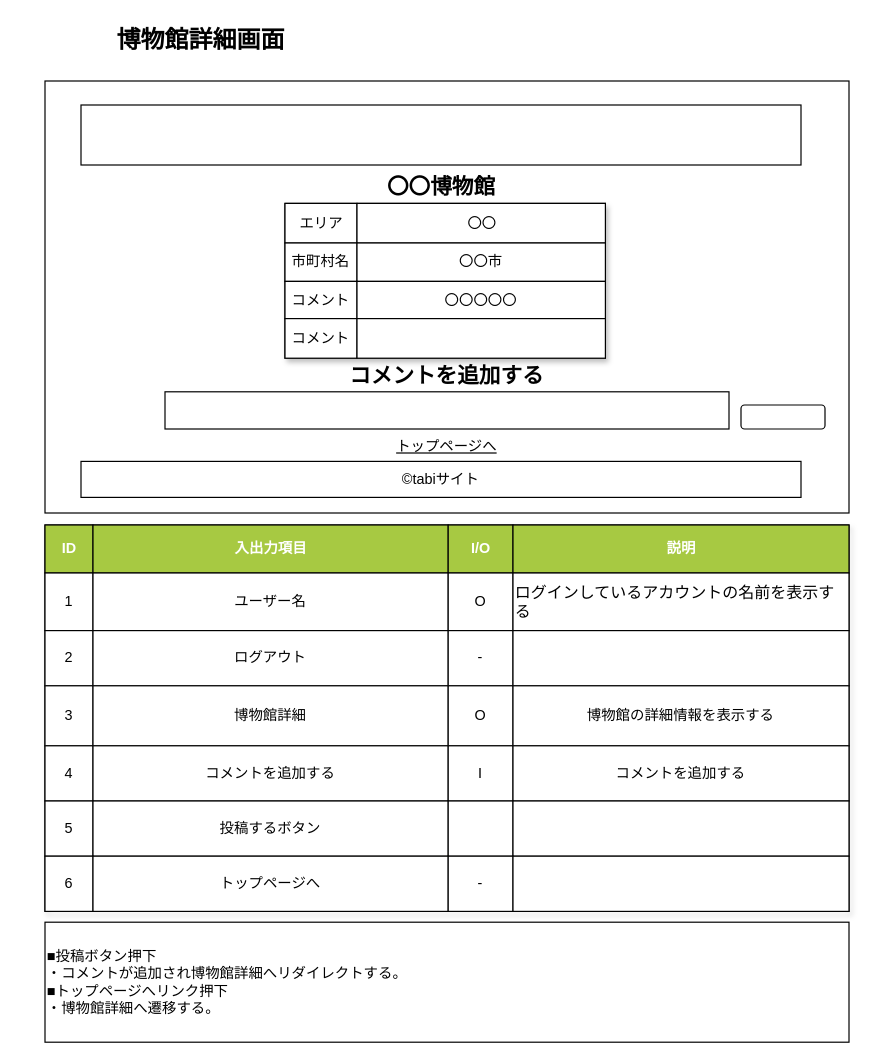
This 877x1063 diagram has some shape labels left out. The shapes that lost their labels are listed below. From the top down, each one's centre as x and y in pixels, then its label:
At (440,134): "北海道の博物館 （ユーザー名）さんがログイン中 ログアウト".
At (782,416): "投稿する".
